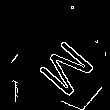M_SE: (31, 32, 98, 100)
